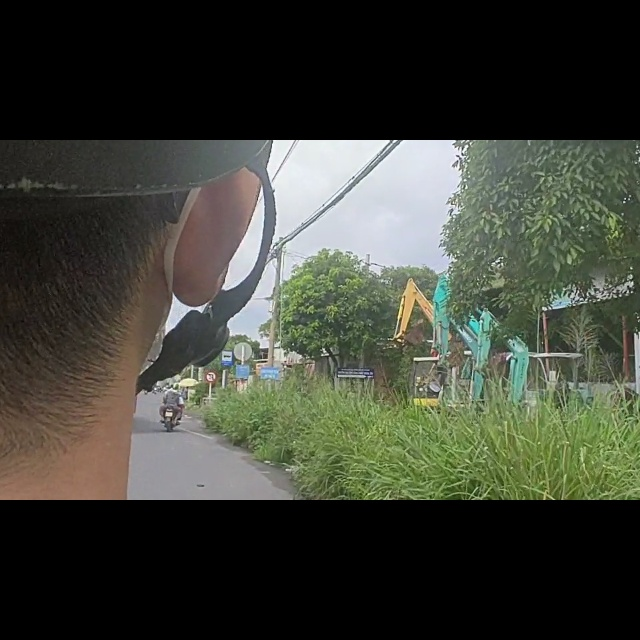bien_cam: (221, 373, 234, 404), (203, 411, 217, 431)
